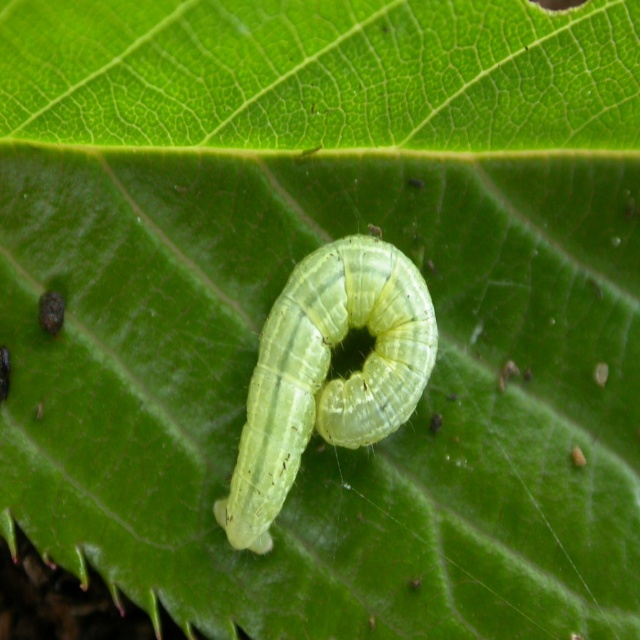Caterpillar: (211, 223, 438, 560)
